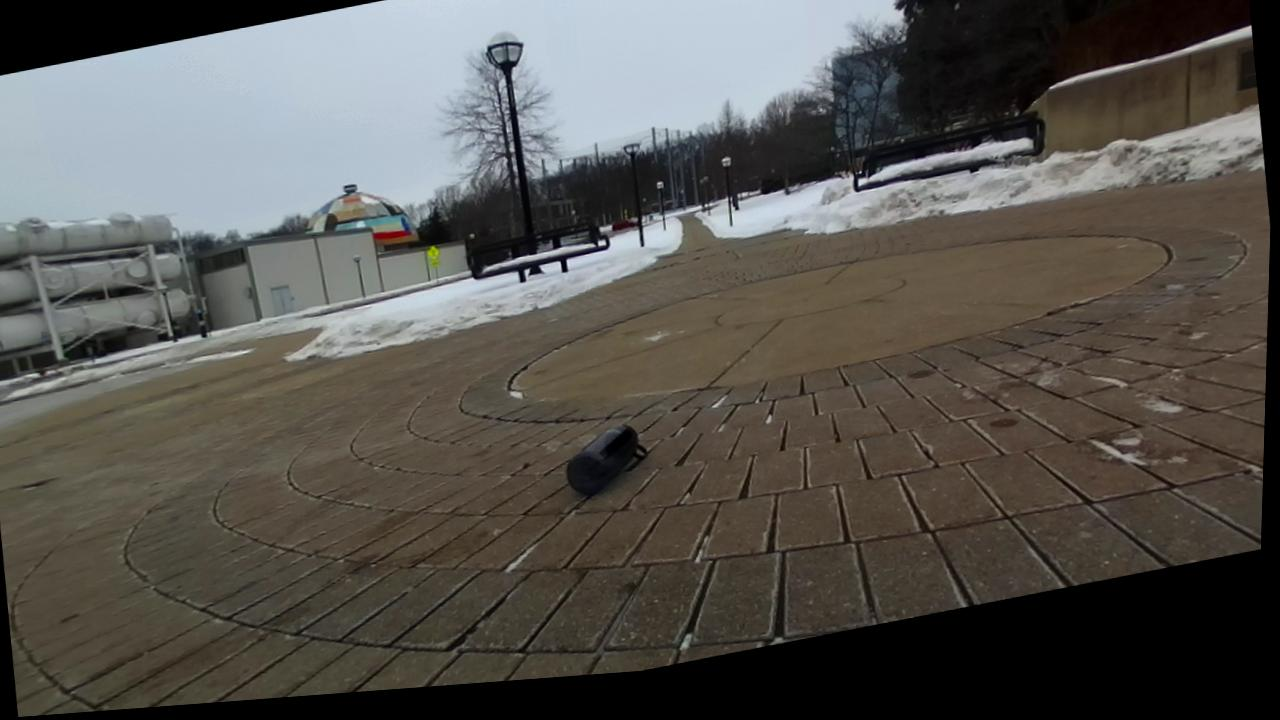bottle: (567, 424, 646, 495)
